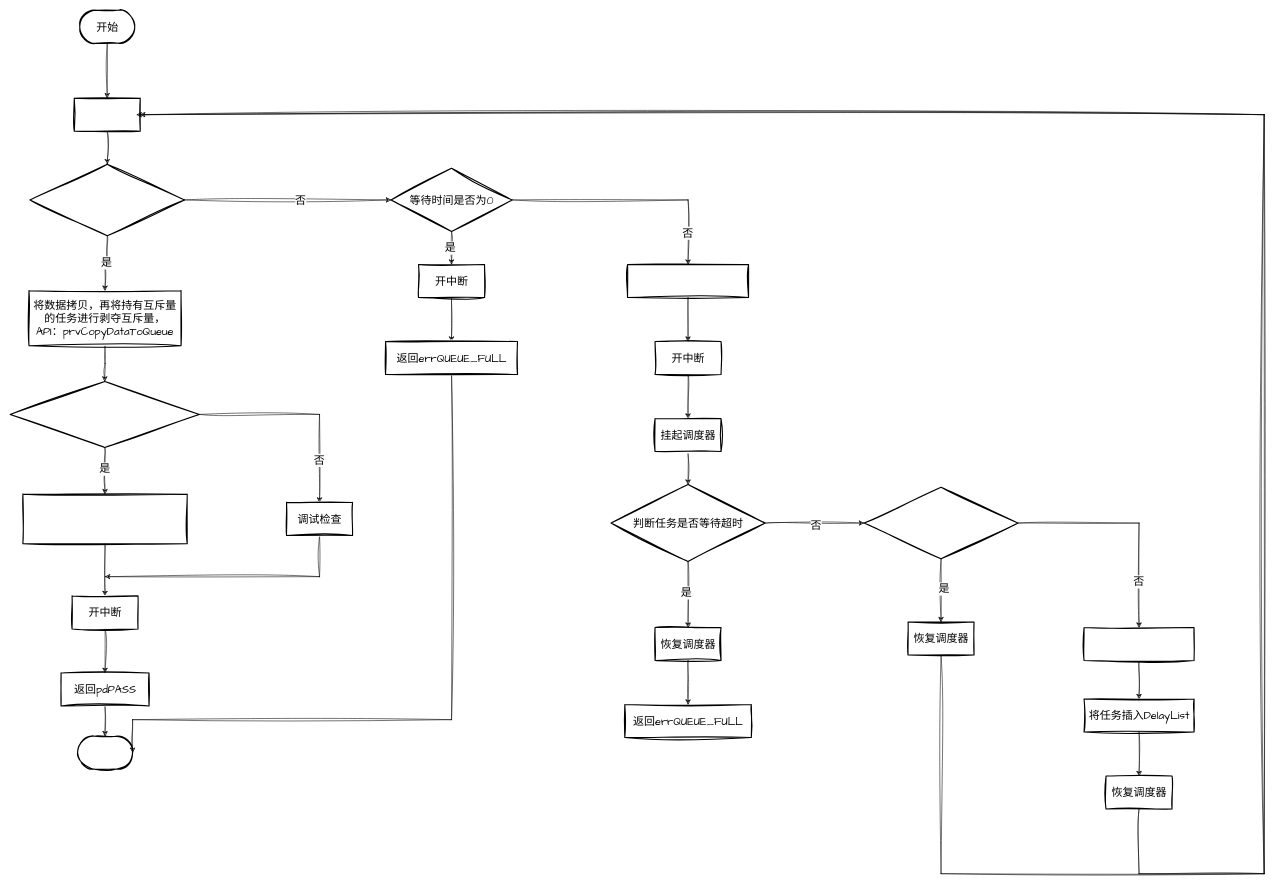
This 1278x888 diagram has some shape labels left out. Here are the shapes that lost their labels. From the top down, the centre of each, then its label:
the point at 107,114: 关中断
the point at 107,199: 判断队列中是否还有空间或者是否允许进行覆盖
the point at 688,281: 设置等待时间
the point at 104,414: 判断等待接收链表中是否为空
the point at 104,518: 将等待接收链表移除第一个任务
the point at 940,522: 判断队列是否满
the point at 1138,644: 将等待发送队列任务插入事件链表
the point at 105,752: 结束
